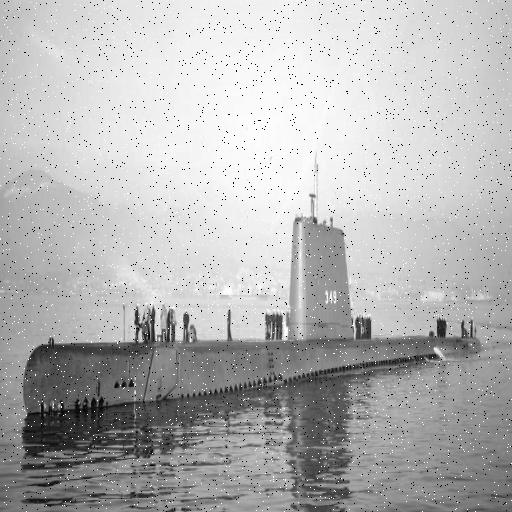submarine: (25, 156, 486, 415)
